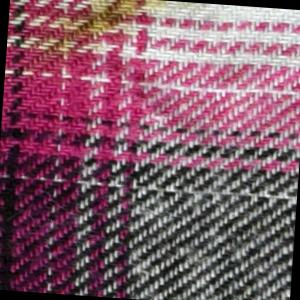Oil Stain: (20, 1, 195, 69)
